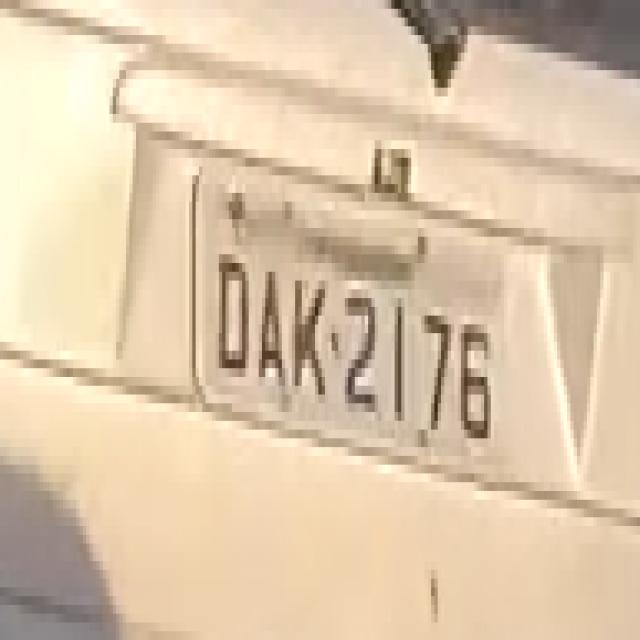Placa_mercosul_carro: (191, 156, 506, 479)
